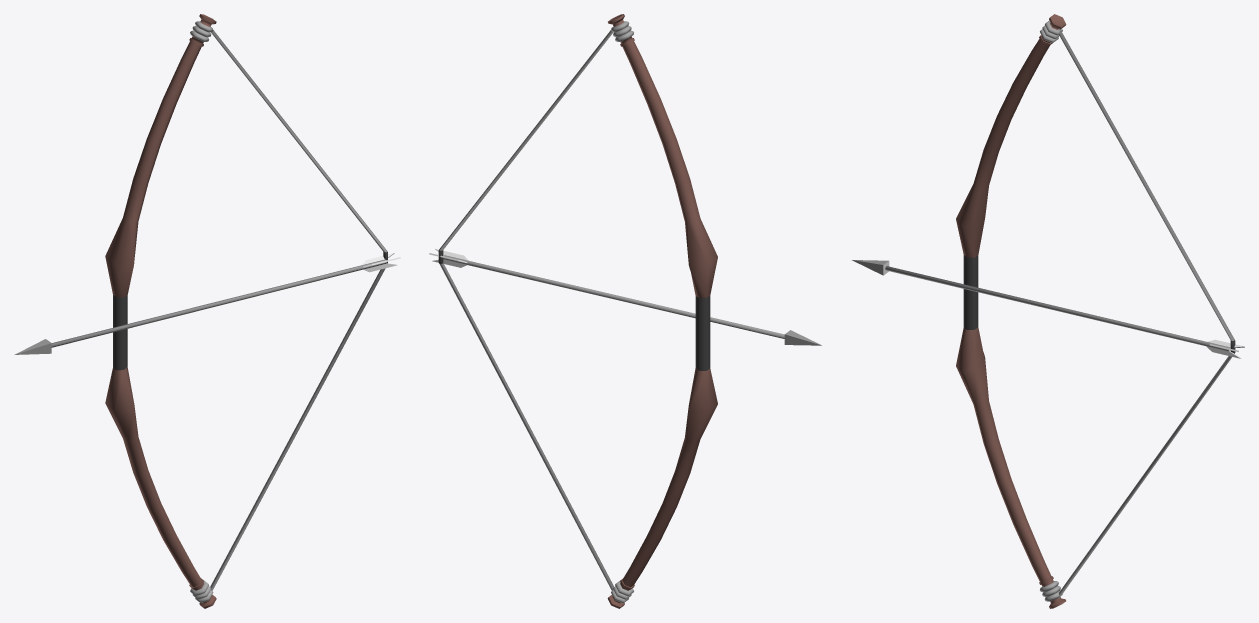
The model's file is bow_arrow.fbx.
3 renders of one model, left to right at view 1: azimuth 30°, elevation 25°; view 2: azimuth 150°, elevation 25°; view 3: azimuth 330°, elevation 25°, orthographic.
Parts seen in each view (by area): view 1: Arrow, bow; view 2: Arrow, bow; view 3: Arrow, bow.
Part boxes in pixels (x1,y1,x2,y2): Arrow: [105, 14, 387, 608]; bow: [14, 253, 400, 354]; Arrow: [438, 14, 717, 608]; bow: [429, 249, 821, 345]; Arrow: [956, 14, 1235, 608]; bow: [852, 260, 1244, 358].
Bounding box in the file's own units: 96.82 × 141 × 9.03.
